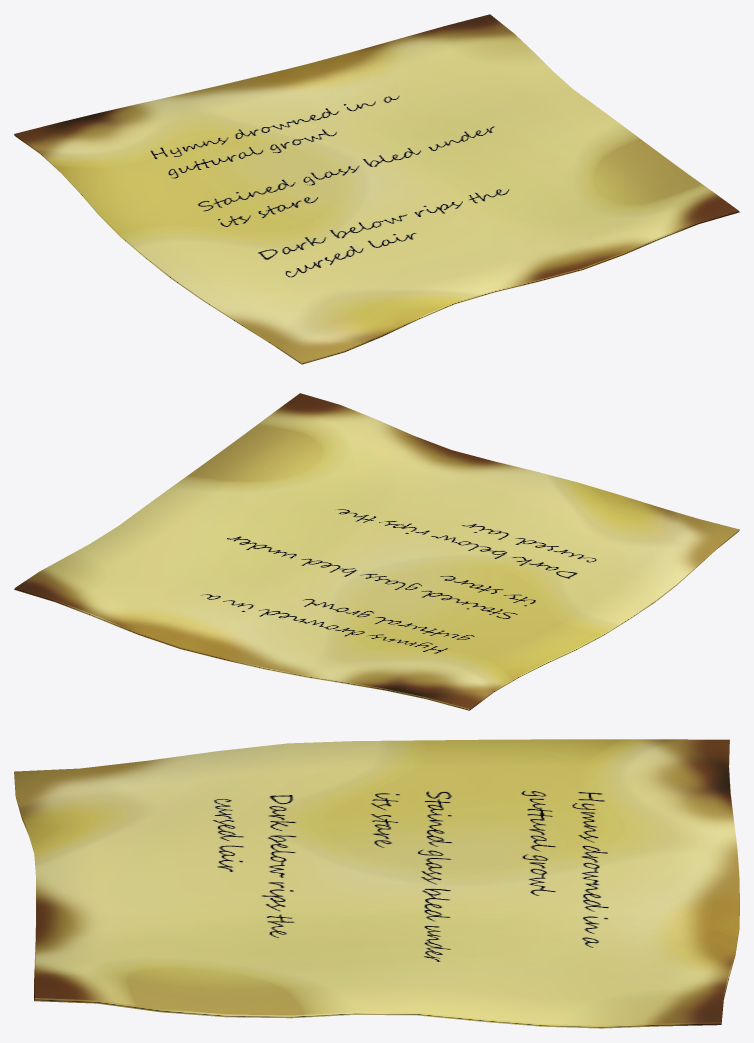
The model's file is Paper9.glb.
The picture shows the model from 3 angles, top to bottom: view 1: azimuth 30°, elevation 25°; view 2: azimuth 150°, elevation 25°; view 3: azimuth 270°, elevation 25°; orthographic projection. The views are drawn at different scales.
Visible parts, largest first — view 1: Plane; view 2: Plane; view 3: Plane.
Part boxes in pixels (x1,y1,x2,y2): Plane: (14,14,739,364); Plane: (14,393,739,710); Plane: (14,739,739,1028).
Size of the model in its own units: 0.8607 by 0.0672 by 0.8722.
1 material, 1 textured.
